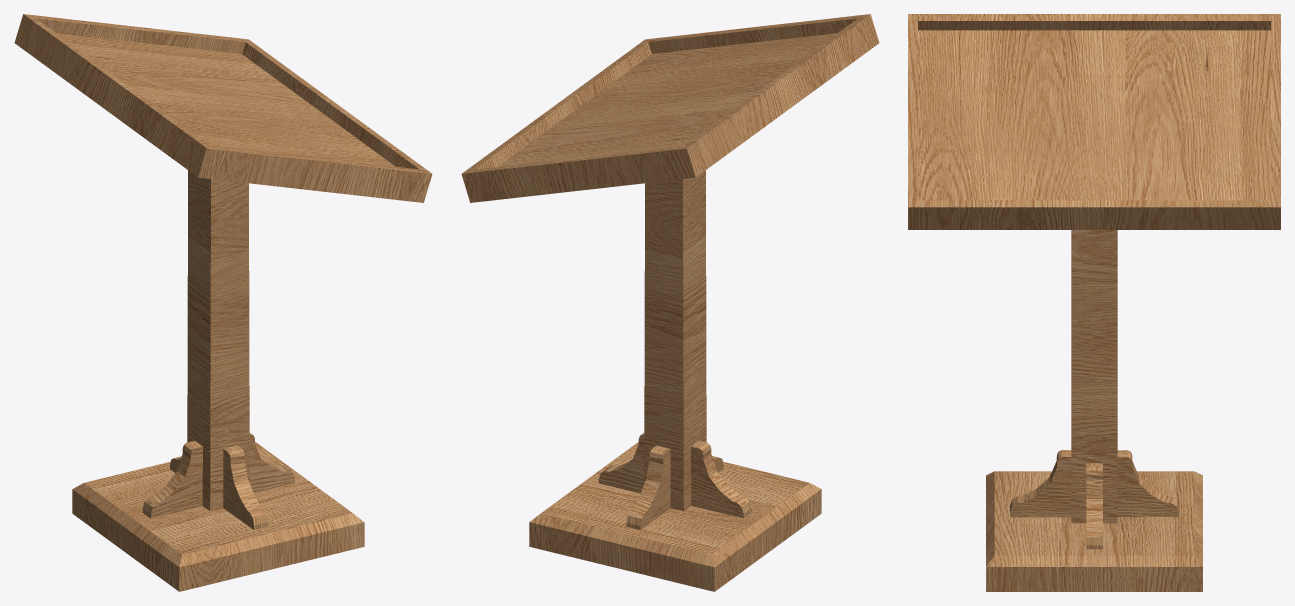
The model's file is lecturn.glb.
3 renders of one model, left to right at view 1: azimuth 30°, elevation 25°; view 2: azimuth 150°, elevation 25°; view 3: azimuth 270°, elevation 25°, orthographic.
Parts seen in each view (by area): view 1: lecturn; view 2: lecturn; view 3: lecturn.
Boxes of the visible parts, bbox=[...] form: lecturn: bbox=[14, 14, 432, 591]; lecturn: bbox=[461, 14, 879, 591]; lecturn: bbox=[908, 14, 1280, 591].
Size of the model in its own units: 2.53 by 4.89 by 3.44.
Materials: 1 (1 with a texture image).
